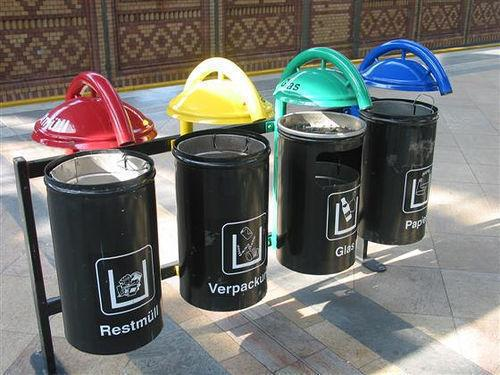Bote de Basura: (52, 144, 162, 356), (171, 136, 269, 311), (272, 114, 359, 281), (359, 97, 435, 245)
